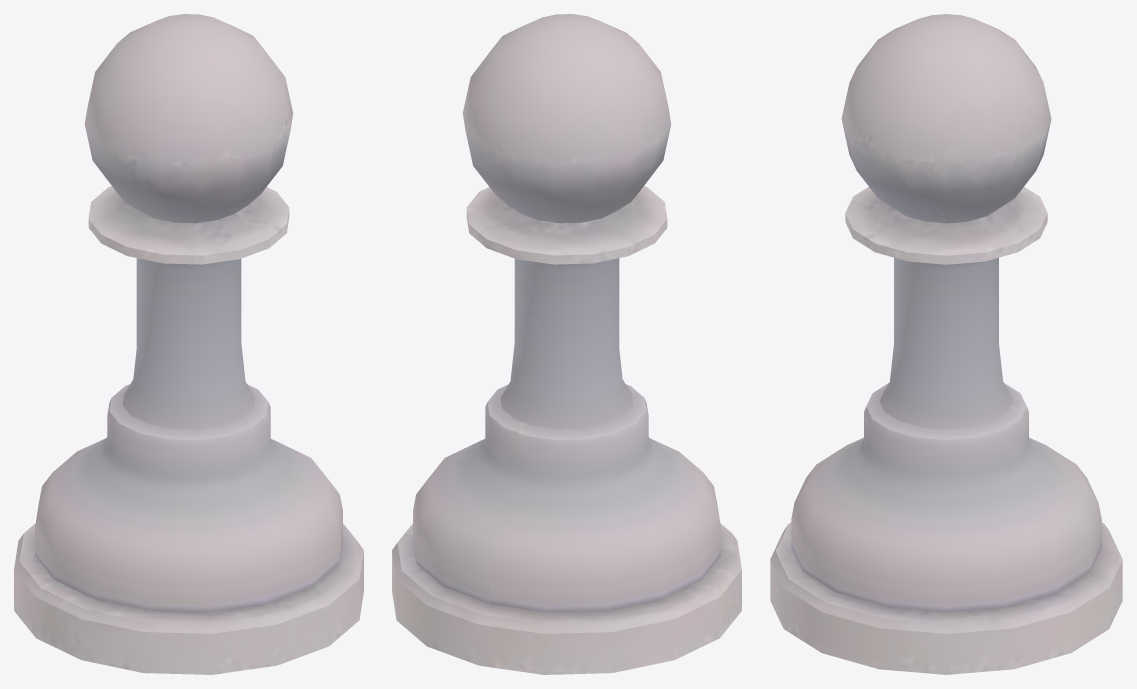
Rendered from pawn_white.glb.
The picture shows the model from 3 angles, left to right: view 1: azimuth 30°, elevation 25°; view 2: azimuth 150°, elevation 25°; view 3: azimuth 270°, elevation 25°; orthographic projection.
Parts seen in each view (by area): view 1: pawn_white; view 2: pawn_white; view 3: pawn_white.
Part boxes in pixels (<box>): pawn_white: <box>14,14,363,674</box>; pawn_white: <box>392,14,741,674</box>; pawn_white: <box>770,14,1122,674</box>.
Size of the model in its own units: 1.01 by 1.82 by 1.01.
1 material, 1 textured.
